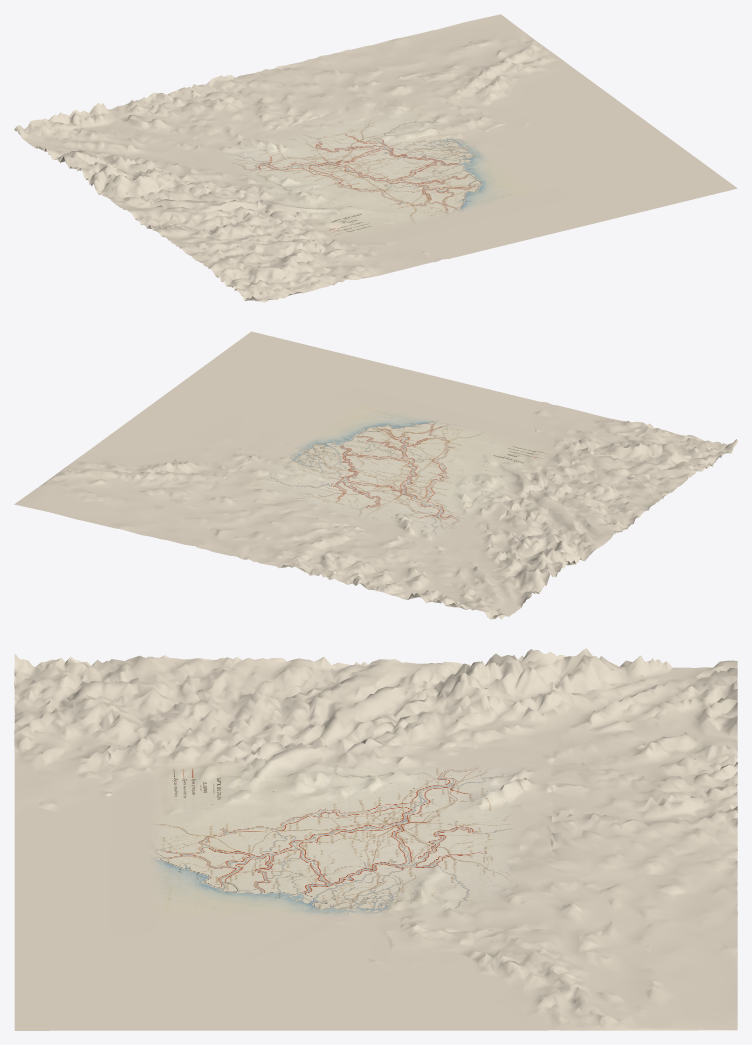
File: SM_Terrain_02.fbx
3 views of the same model, one above another, from view 1: azimuth 30°, elevation 25°; view 2: azimuth 150°, elevation 25°; view 3: azimuth 270°, elevation 25° (orthographic). The views are drawn at different scales.
Visible parts, largest first — view 1: EXPORT_GOOGLE_MAP_WM; view 2: EXPORT_GOOGLE_MAP_WM; view 3: EXPORT_GOOGLE_MAP_WM.
Part boxes in pixels (x1,y1,x2,y2): EXPORT_GOOGLE_MAP_WM: (14,14,737,302); EXPORT_GOOGLE_MAP_WM: (14,331,737,619); EXPORT_GOOGLE_MAP_WM: (14,648,737,1030).
Size of the model in its own units: 160668 by 5202 by 135790.
